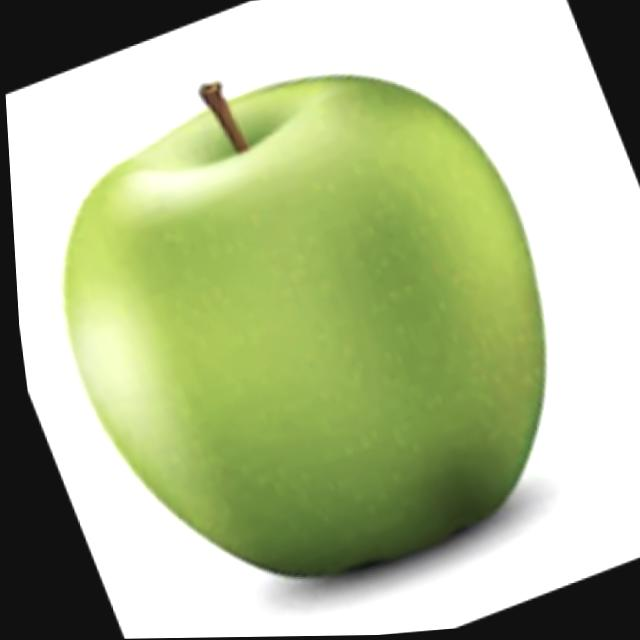organik: (19, 49, 580, 611)
